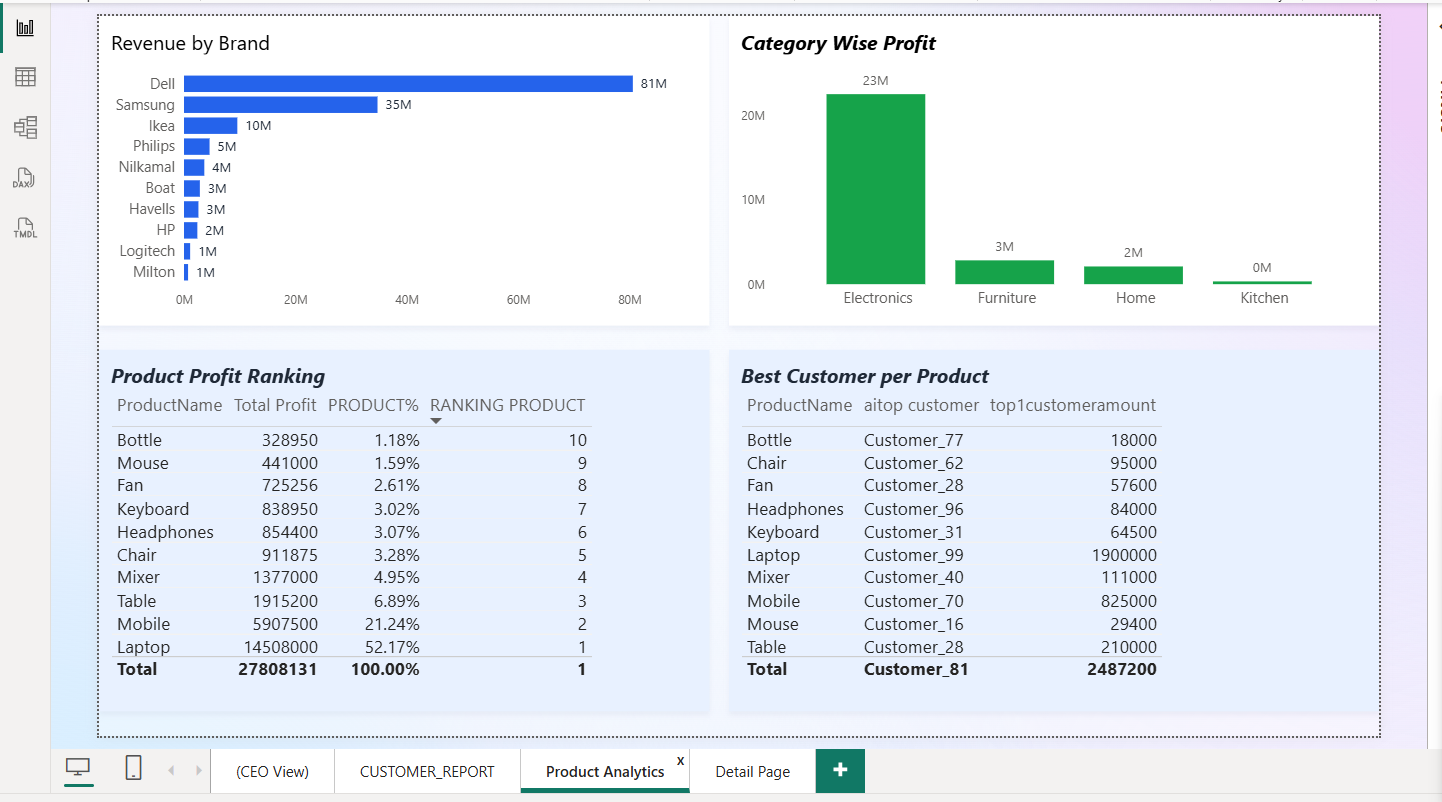

This screenshot's page, from the dashboard's own definition file:
{"tool":"powerbi","page":{"name":"Product Analytics","canvas":[1280,720],"ordinal":2},"visuals":[{"type":"barChart","title":"Revenue by Brand","fields":{"Y":["Fact Order Table.Net Sales"],"Category":["Dim Product Table.Brand"]},"box":[0,0,610.2,309.4],"z":0},{"type":"columnChart","title":"Category Wise Profit","fields":{"Category":["Dim Product Table.Category"],"Y":["Fact Order Table.Total Profit"]},"box":[629.8,0,650.5,309.4],"z":1000},{"type":"tableEx","title":"Product Profit Ranking","fields":{"Values":["Dim Product Table.ProductName","Fact Order Table.Total Profit","Dim Product Table.PRODUCT%","Dim Product Table.RANKING PRODUCT"]},"box":[0,333.8,610.2,362],"z":2000},{"type":"tableEx","title":"Best Customer per Product","fields":{"Values":["Dim Product Table.ProductName","Dim Customer Table.aitop customer","Dim Customer Table.top1customeramount"]},"box":[629.8,333.8,650.5,362],"z":4000}]}

Visuals, with their boxes on the page's 1280x720 design canvas (x1, y1, x2, y2). These are canvas units, not pixel positions in the 1442x802 screenshot, which may show the page scaled, cropped or inside an application window:
"Revenue by Brand" barChart: <bbox>0, 0, 610, 309</bbox>
"Category Wise Profit" columnChart: <bbox>630, 0, 1280, 309</bbox>
"Product Profit Ranking" tableEx: <bbox>0, 334, 610, 696</bbox>
"Best Customer per Product" tableEx: <bbox>630, 334, 1280, 696</bbox>
